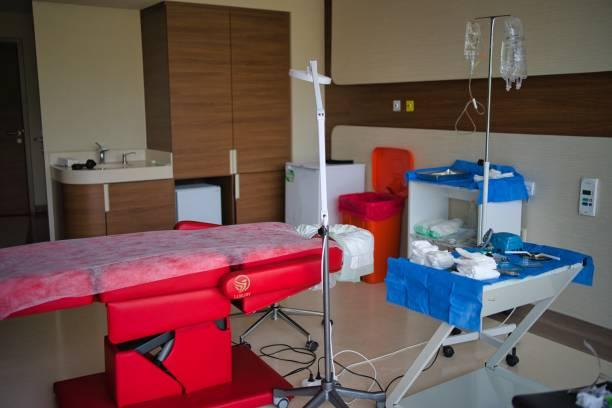Saline Stand: (445, 7, 532, 252)
bed: (0, 218, 401, 408)
bin: (340, 137, 419, 277)
tools_table: (377, 225, 587, 408)
